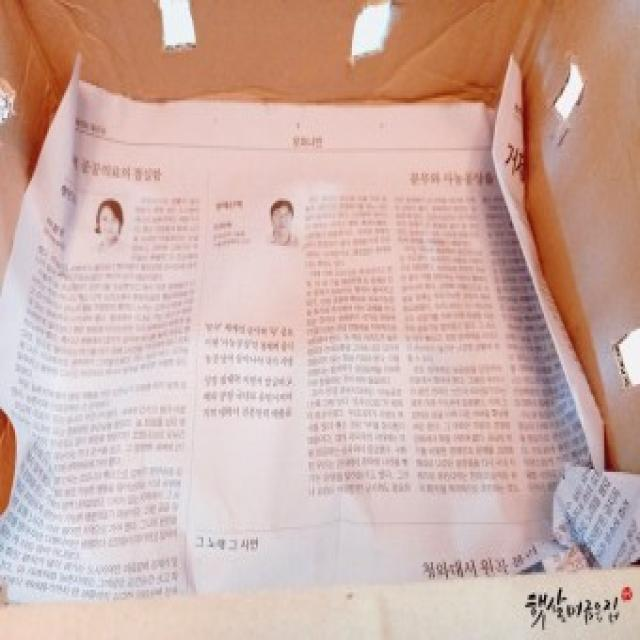Newspaper: (1, 49, 640, 605)
